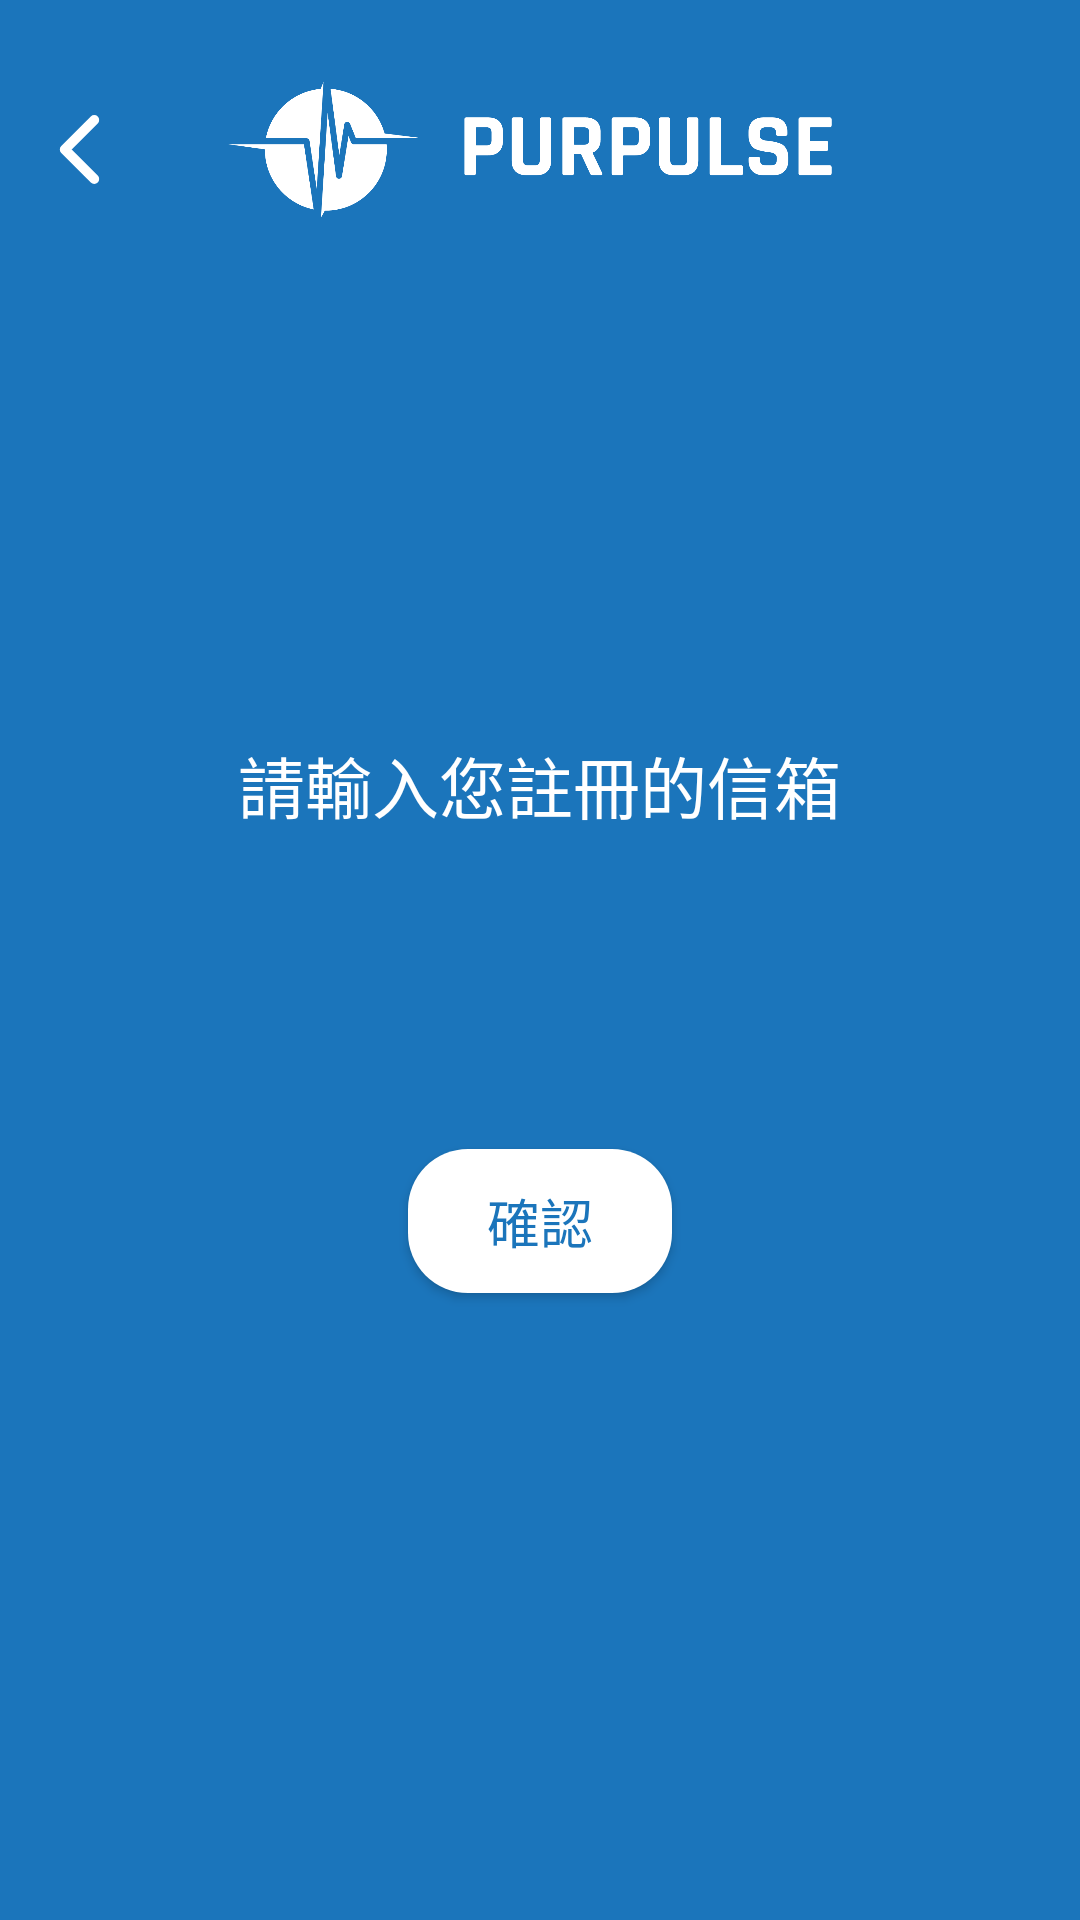

Named icons in this screenshot (1080w x 1920h) and their bounding boxes, (x1, y1, x2, y2):
chevron back: (59, 115, 99, 184)
